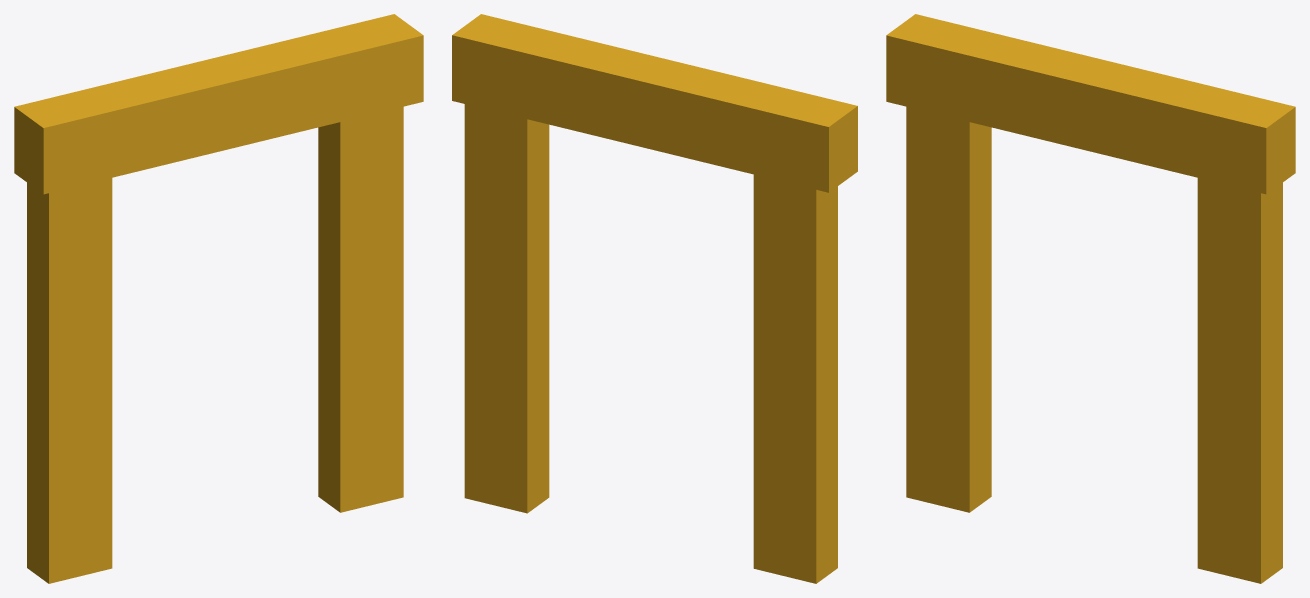
File: portal_egypt.gltf
3 renders of one model, left to right at view 1: azimuth 30°, elevation 25°; view 2: azimuth 150°, elevation 25°; view 3: azimuth 330°, elevation 25°, orthographic.
Parts seen in each view (by area): view 1: Plane; view 2: Plane; view 3: Plane.
Boxes of the visible parts, x1,y1,x2,y2 form: Plane: (14,14,423,583); Plane: (452,14,857,583); Plane: (886,14,1295,583).
Size of the model in its own units: 3 by 3.5 by 0.4.
